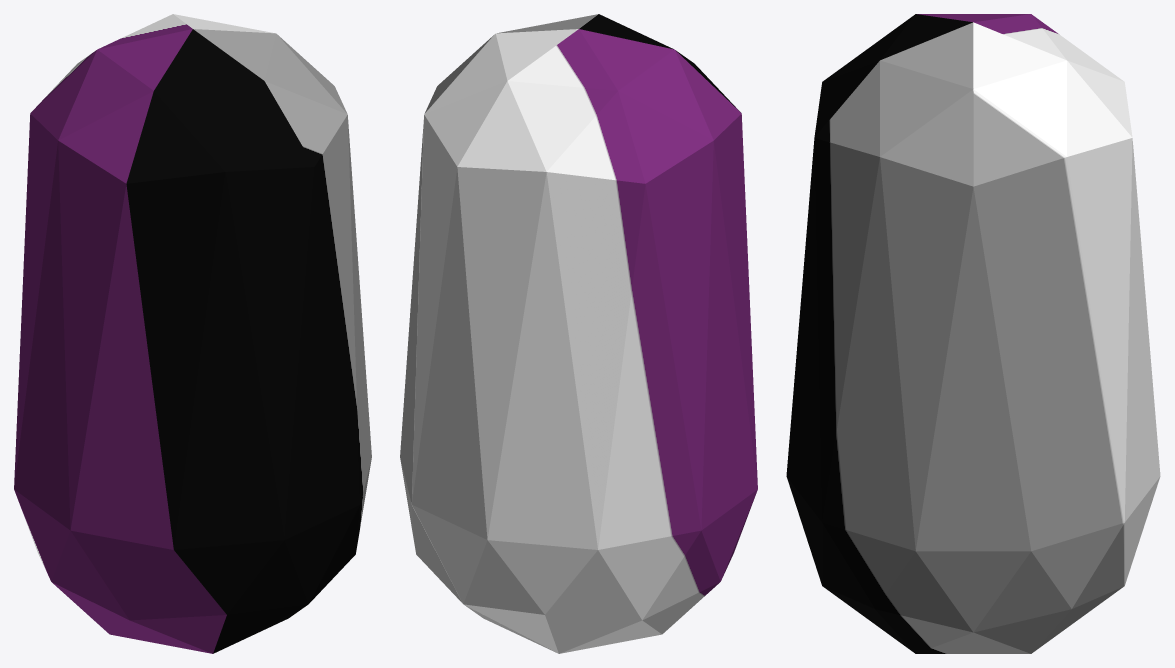
Rendered from bean.glb.
3 views of the same model, side by side, from view 1: azimuth 30°, elevation 25°; view 2: azimuth 150°, elevation 25°; view 3: azimuth 270°, elevation 25° (orthographic). The views are drawn at different scales.
Visible parts, largest first — view 1: Icosphere; view 2: Icosphere; view 3: Icosphere.
Part boxes in pixels (<box>): Icosphere: <box>14,14,371,653</box>; Icosphere: <box>400,14,757,653</box>; Icosphere: <box>786,14,1160,653</box>.
Bounding box in the file's own units: 9.51 × 18.39 × 10.
1 material, 1 textured.
